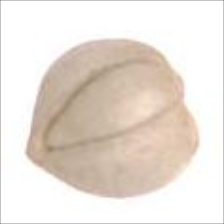L5: (42, 59, 182, 153), (23, 120, 48, 174)
L6: (22, 36, 202, 201)
